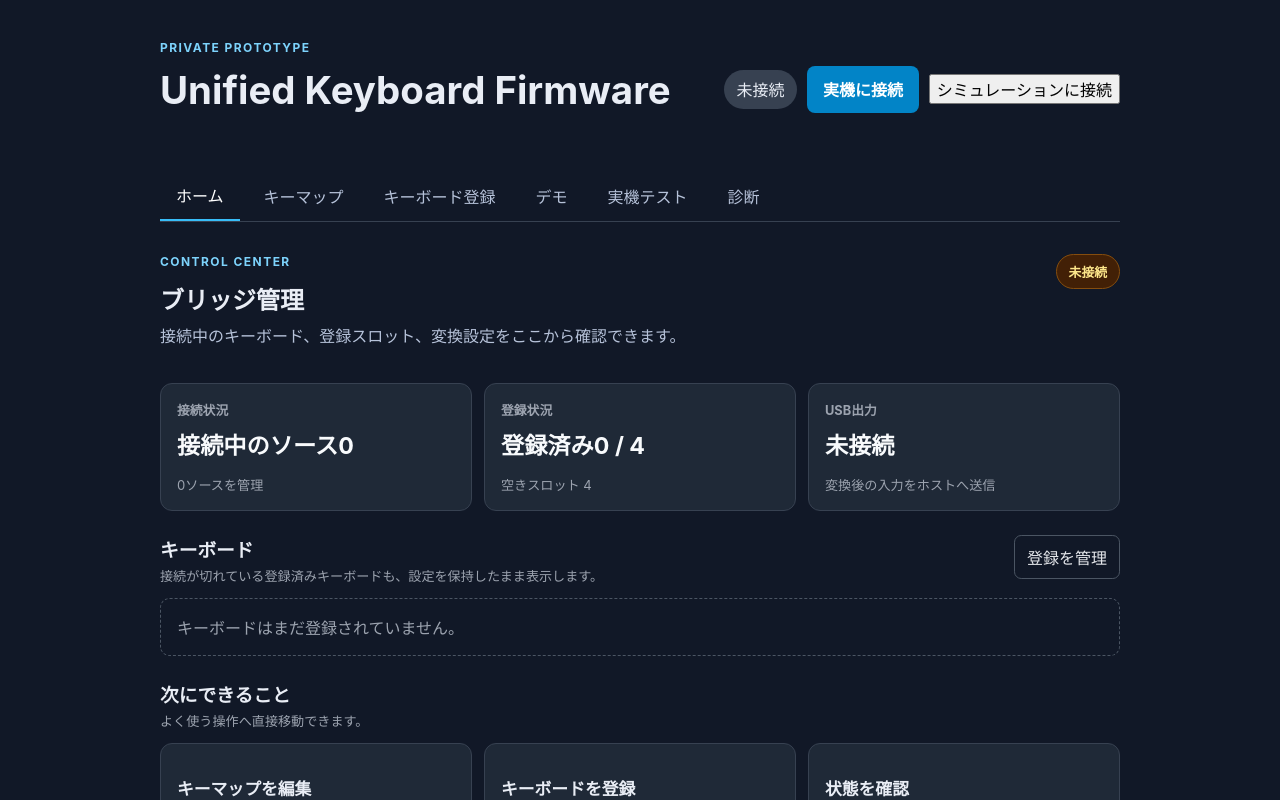
Test case: physical bridge › keeps a disconnected registered source out of the connected count and badge
Click the button "実機に接続" at (863, 89), box top-left (807, 66), bottom-right (919, 113)
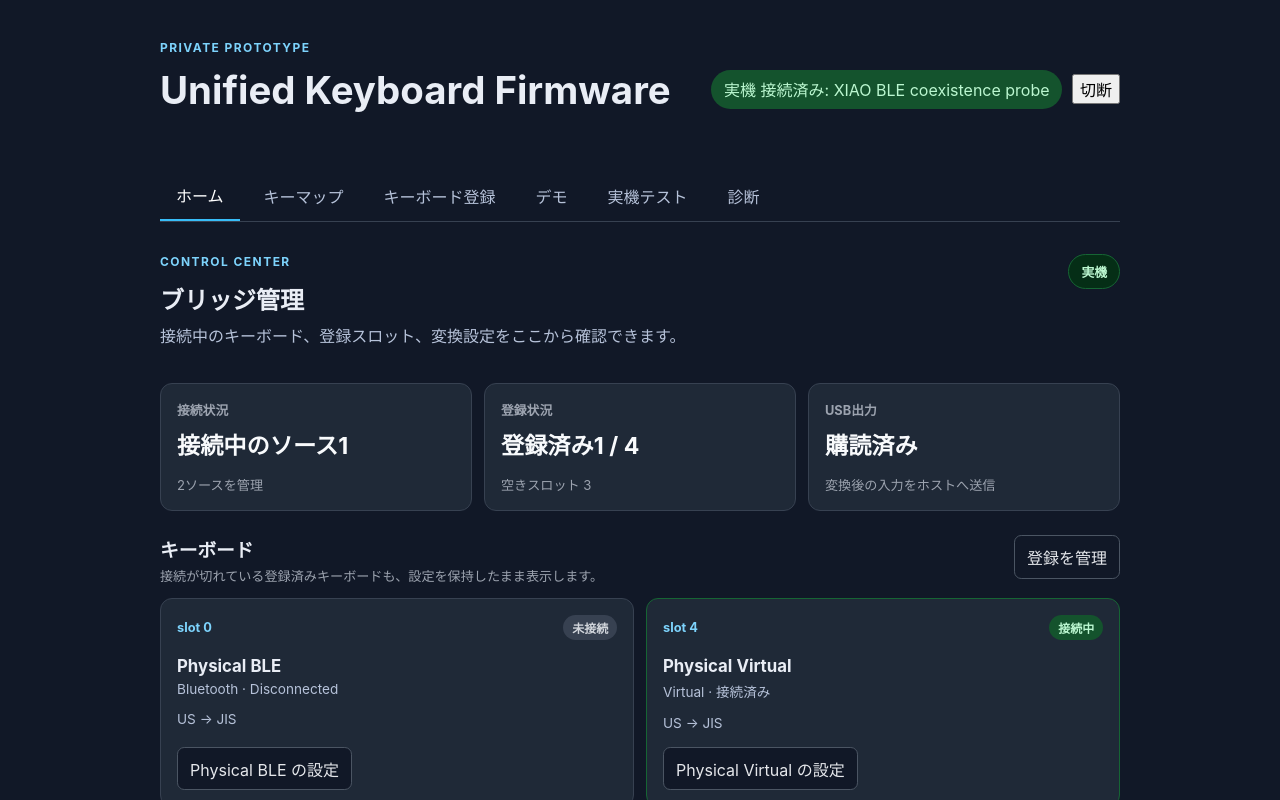
Expected: the text with class "source-state" reads "未接続", top-left (572, 621), bottom-right (608, 636)
Expected: the element "接続状況" shows "接続中のソース1", top-left (177, 432), bottom-right (348, 460)
Expected: the text "Physical BLE" is shown, top-left (177, 656), bottom-right (281, 676)
